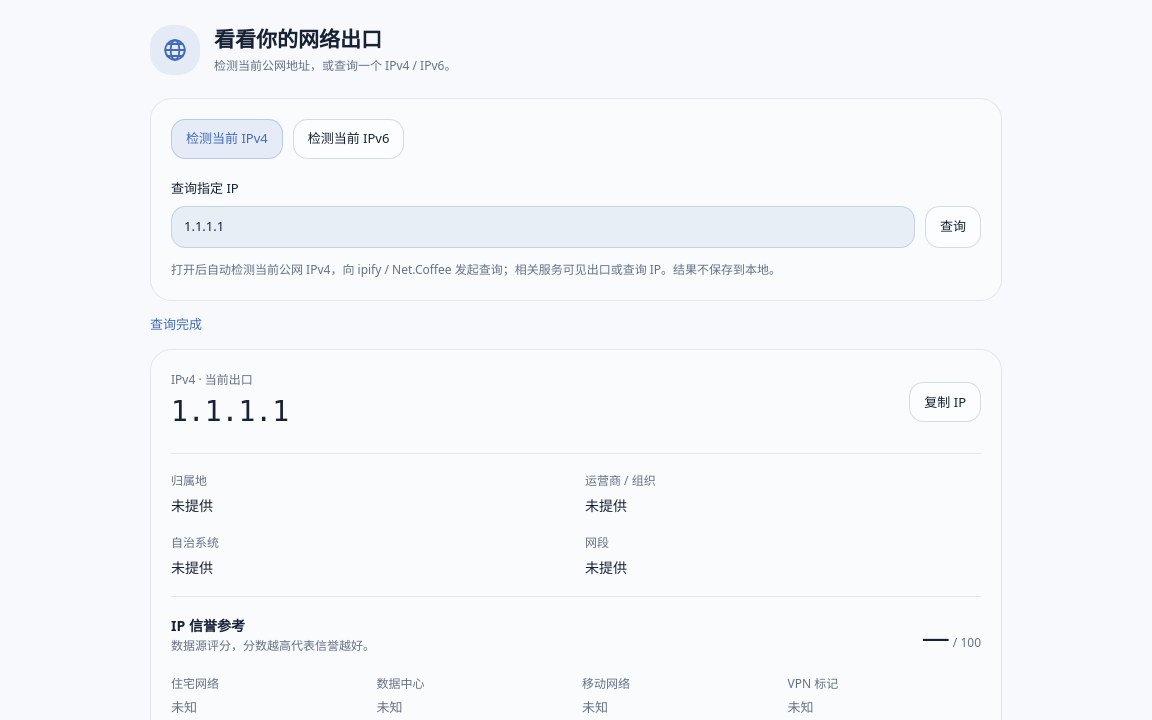
Scenario: IP detection panel › shows a manual copy fallback when clipboard permission is unavailable
The width and height of the screenshot is (1152, 720).
Click the button "复制 IP". click: click(945, 402)
box: [909,382,981,422]
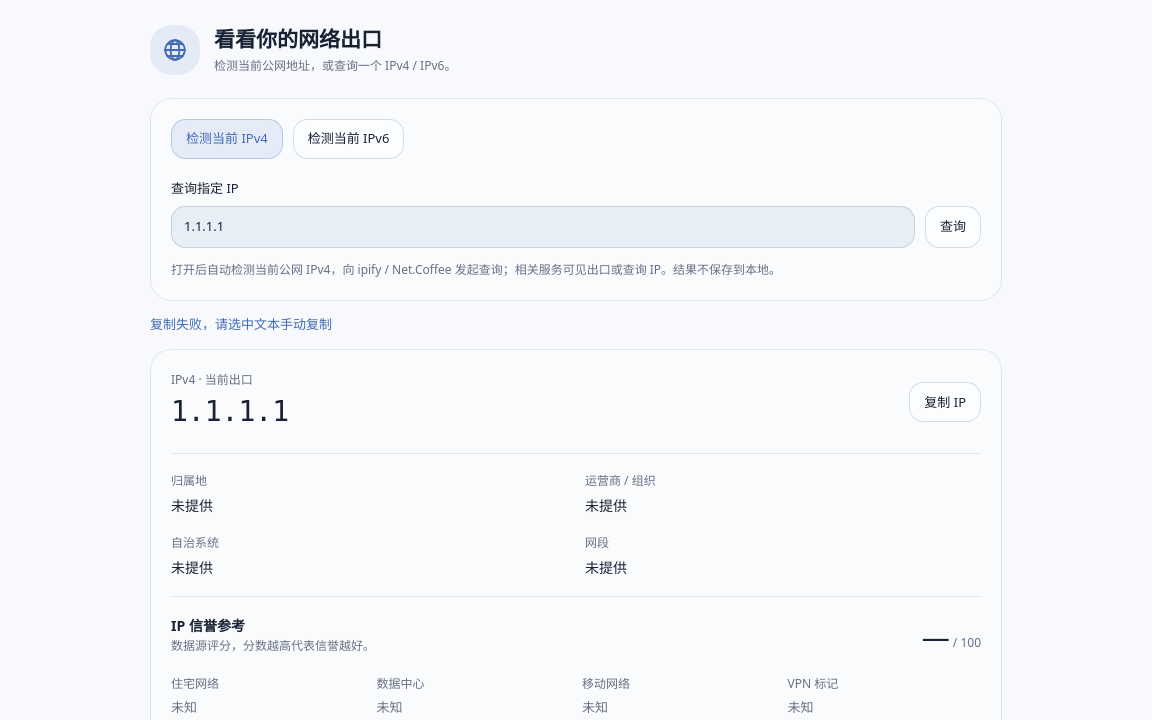
Check: the message "复制失败，请选中文本手动复制" is shown, box [150,315,332,333]
